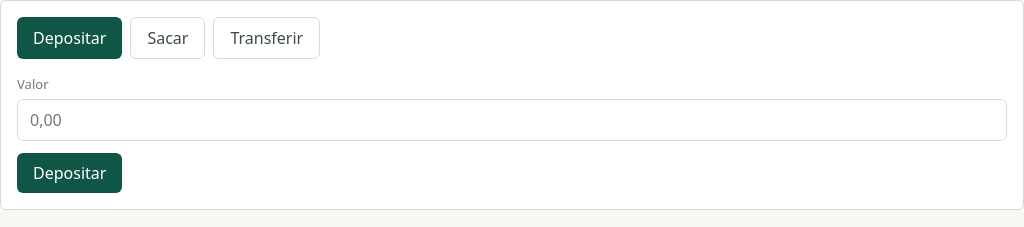
Test: duplo clique não vira duas transações › o botão fica desabilitado enquanto a requisição está em voo
Type "100,00" into the field labelled "Valor" at (512, 120), box x1=17 y1=99 x2=1007 y2=141
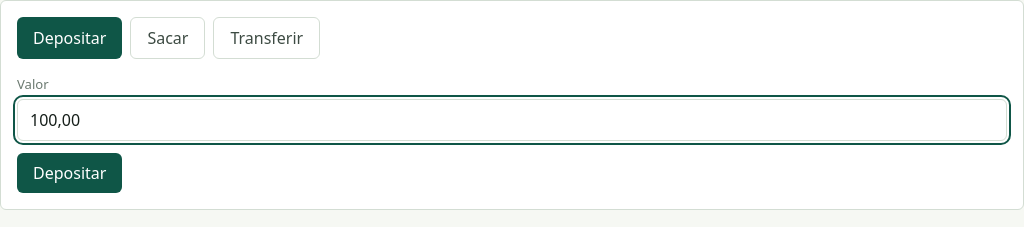
Click the button "Depositar" at (70, 173), box x1=17 y1=153 x2=122 y2=193
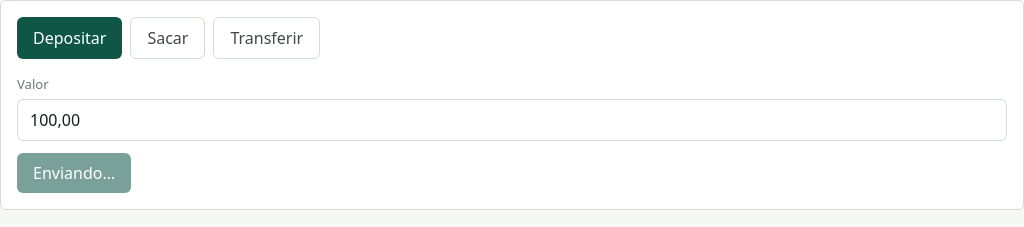
Now the button "Enviando…" is disabled, box x1=17 y1=153 x2=131 y2=193
